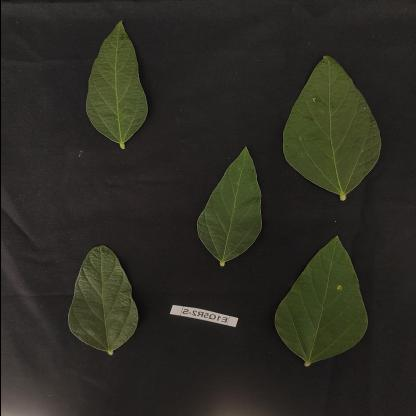label: (166, 294, 240, 330)
leaflets: (266, 43, 392, 207), (265, 233, 380, 368), (68, 13, 152, 162), (190, 136, 268, 284), (64, 233, 146, 369)
